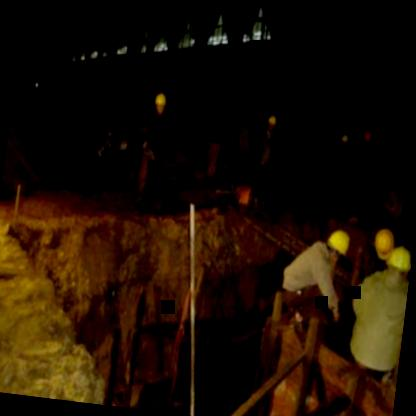helmet: (324, 222, 352, 266), (383, 243, 413, 278), (370, 226, 397, 264), (150, 89, 172, 117)
